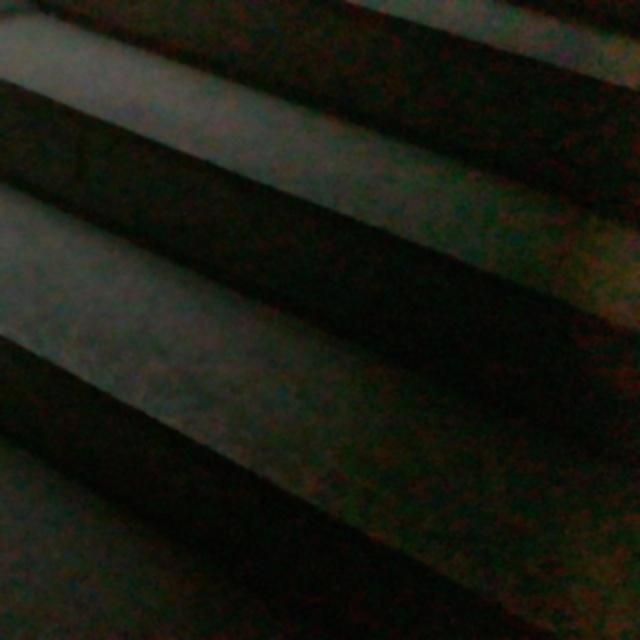stair: (25, 29, 638, 567)
